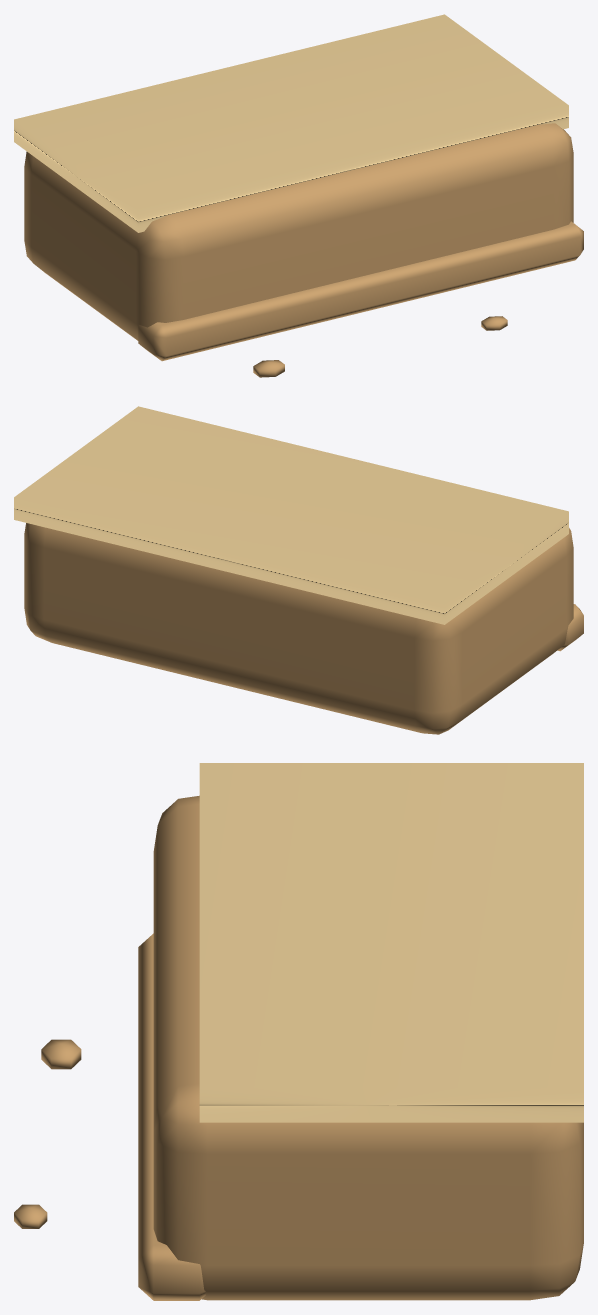
File: ledge_dust.glb
The picture shows the model from 3 angles, top to bottom: view 1: azimuth 30°, elevation 25°; view 2: azimuth 150°, elevation 25°; view 3: azimuth 270°, elevation 25°; orthographic projection. The views are drawn at different scales.
Parts seen in each view (by area): view 1: Ledge; view 2: Ledge; view 3: Ledge.
Boxes of the visible parts, x1,y1,x2,y2 form: Ledge: (14, 14, 583, 377); Ledge: (14, 406, 583, 734); Ledge: (14, 763, 583, 1300).
Size of the model in its own units: 1 by 0.34 by 0.7417.
